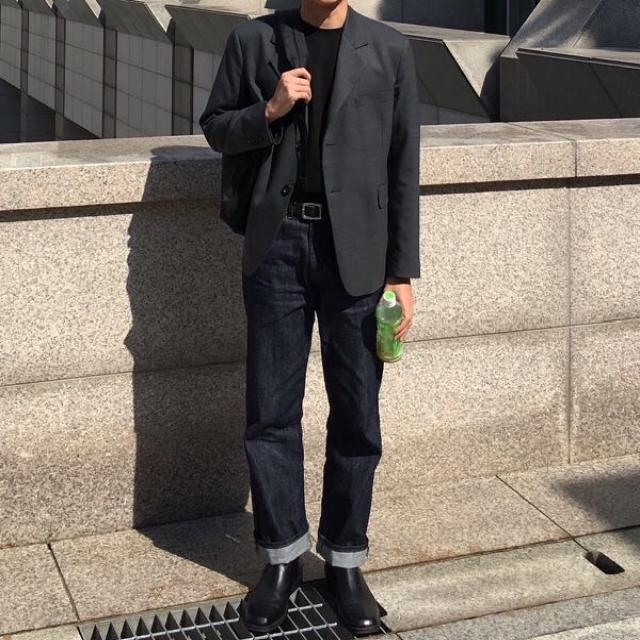blazer: (199, 3, 421, 297)
denimpants: (241, 200, 384, 570)
